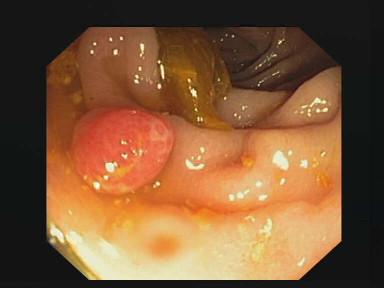polyp: (72, 107, 175, 197)
